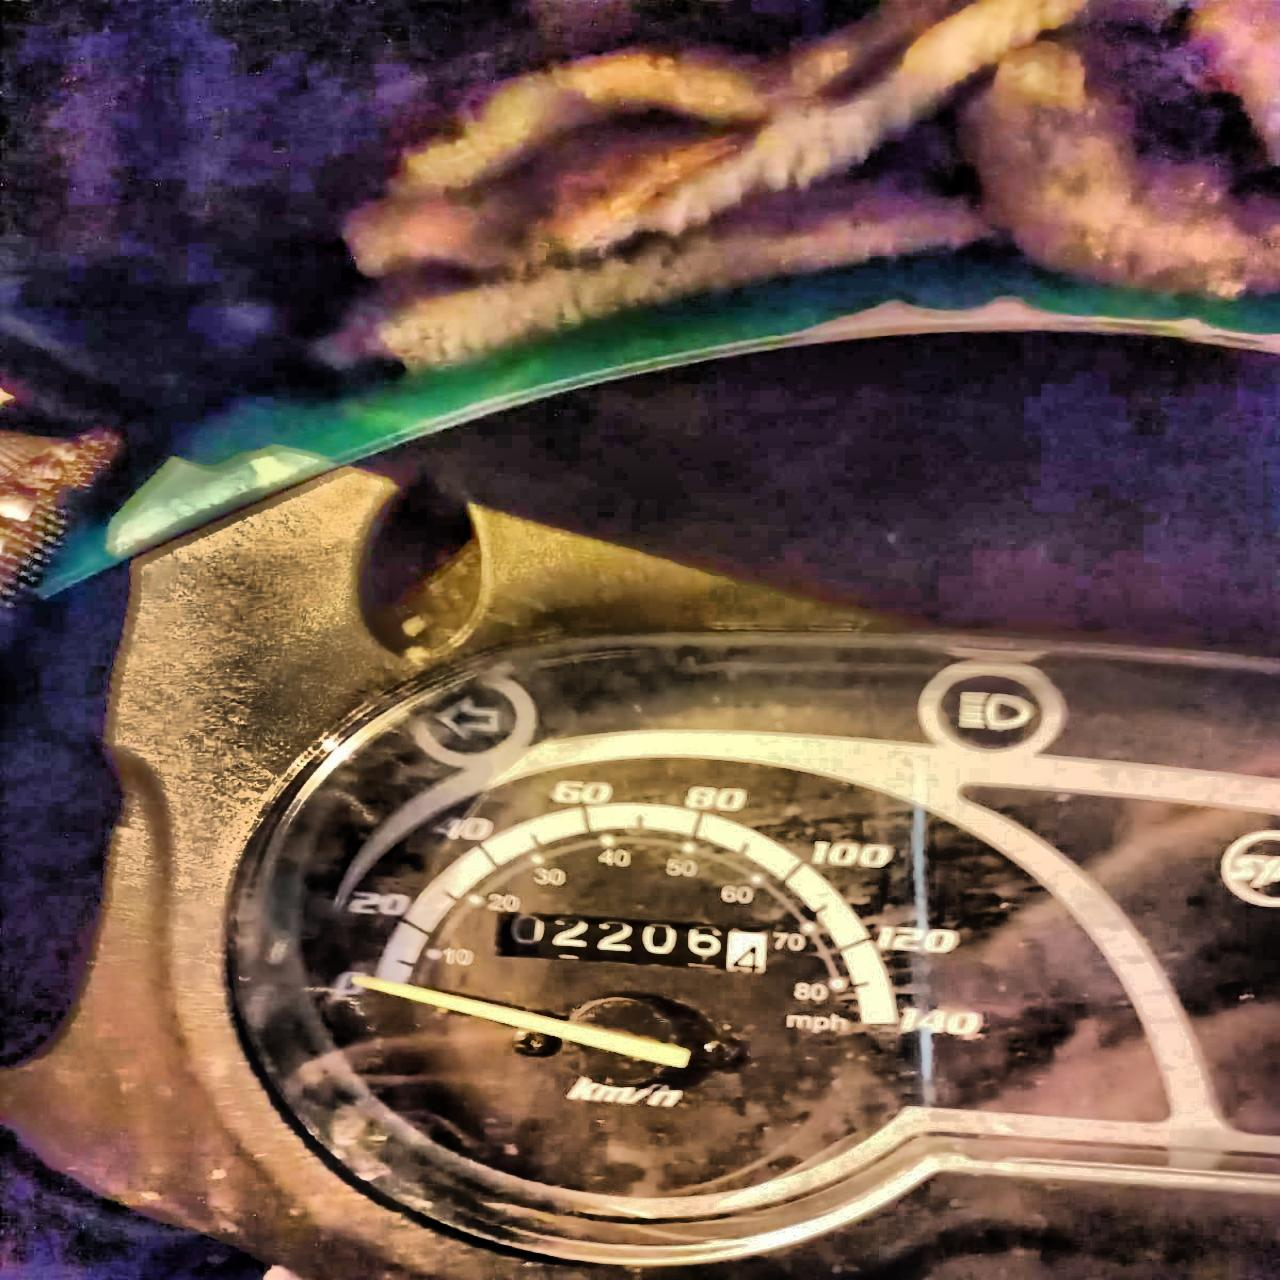0: (510, 911, 546, 947), (642, 919, 679, 954)
2: (594, 915, 635, 956), (551, 914, 591, 952)
4: (731, 941, 765, 973)
6: (686, 920, 723, 958)
odometer: (493, 908, 775, 979)
